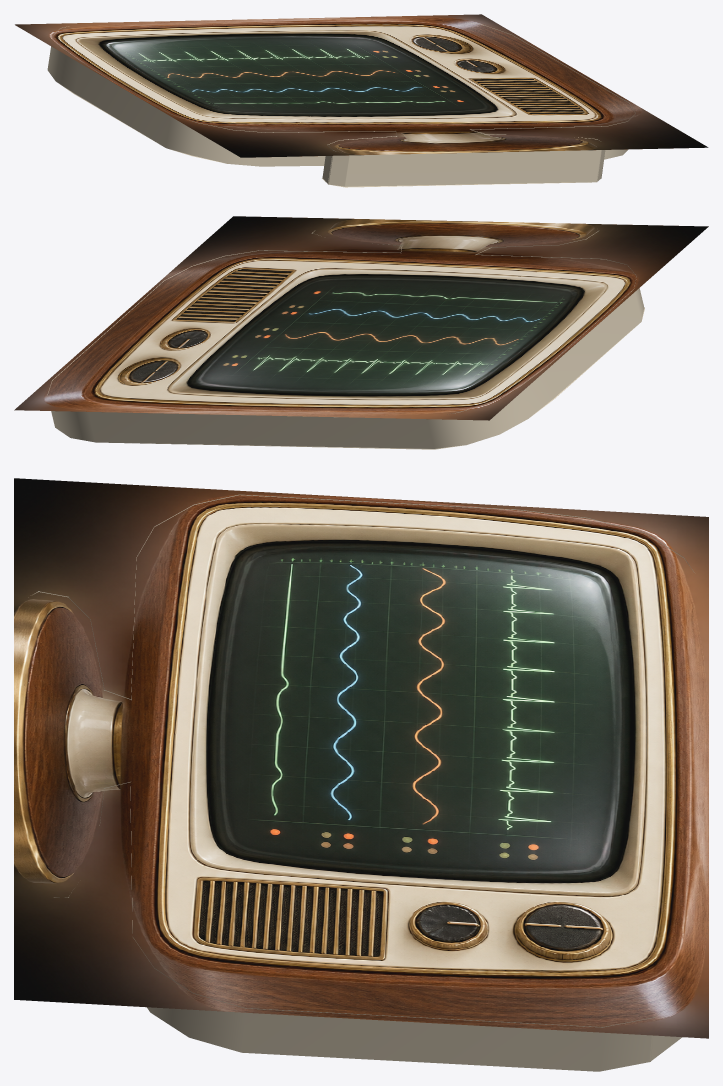
File: vintage-relief-central-monitoring-tv.glb
3 views of the same model, one above another, from view 1: azimuth 30°, elevation 25°; view 2: azimuth 150°, elevation 25°; view 3: azimuth 270°, elevation 25° (orthographic). The views are drawn at different scales.
Visible parts, largest first — view 1: Central monitoring TV · exact approved vintage artwork, Central monitoring TV · outline-matched solid device body; view 2: Central monitoring TV · exact approved vintage artwork, Central monitoring TV · outline-matched solid device body; view 3: Central monitoring TV · exact approved vintage artwork, Central monitoring TV · outline-matched solid device body.
Boxes of the visible parts, <box> form: Central monitoring TV · exact approved vintage artwork: <box>15,14,708,157</box>; Central monitoring TV · outline-matched solid device body: <box>47,22,635,187</box>; Central monitoring TV · exact approved vintage artwork: <box>14,216,708,420</box>; Central monitoring TV · outline-matched solid device body: <box>47,230,644,449</box>; Central monitoring TV · exact approved vintage artwork: <box>14,478,708,1038</box>; Central monitoring TV · outline-matched solid device body: <box>33,494,694,1071</box>.
Size of the model in its own units: 3.83 by 1.21 by 3.09.
Materials: 2 (1 with a texture image).
